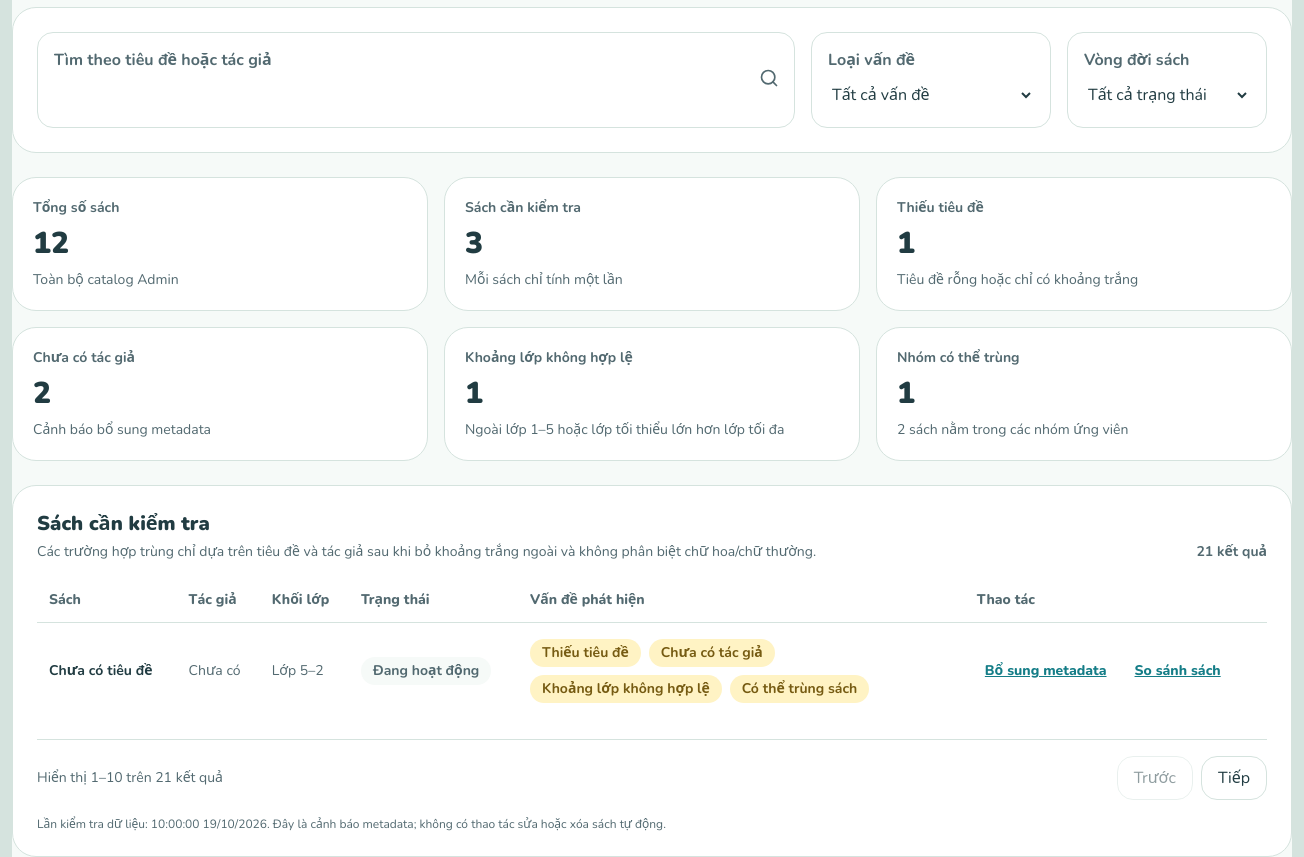
Test case: AdminMetadataQualityScreen › requests the next backend page instead of paging a local array
(page scrolled)
Expected: the heading "Sách cần kiểm tra" is shown, [37, 510, 210, 537]
Click the button "Tiếp": (1234, 778) [1201, 756, 1267, 800]
(page scrolled)
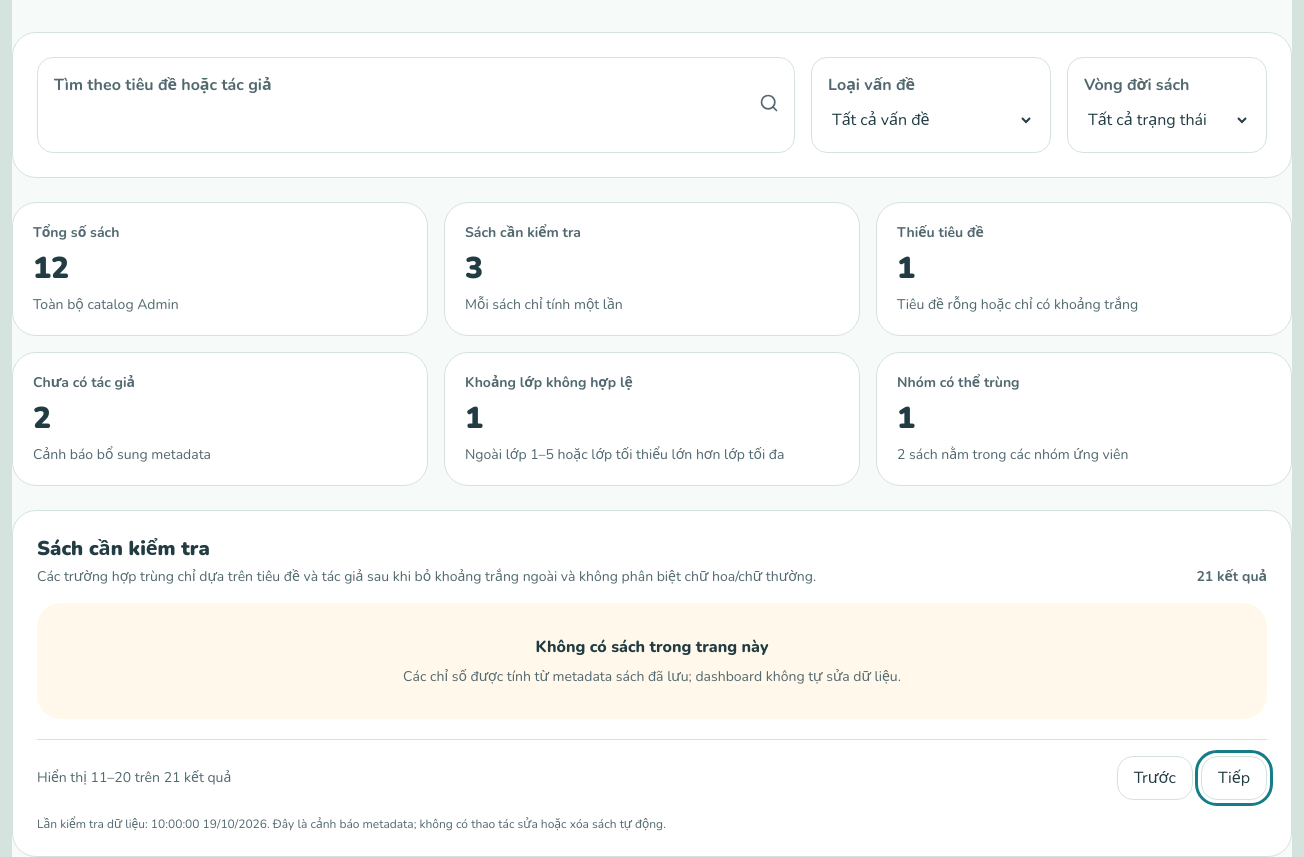
Expected: the text "Hiển thị 11–20 trên 21 kết quả" is shown, [37, 768, 231, 788]
